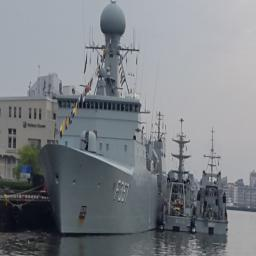Fragata: (36, 2, 167, 240)
